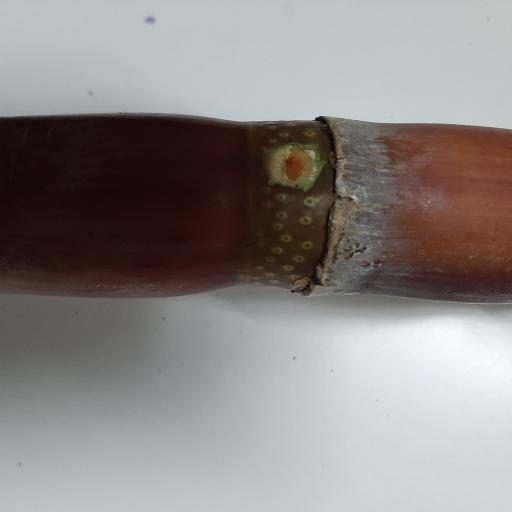Damage_Bud: (263, 141, 322, 192)
